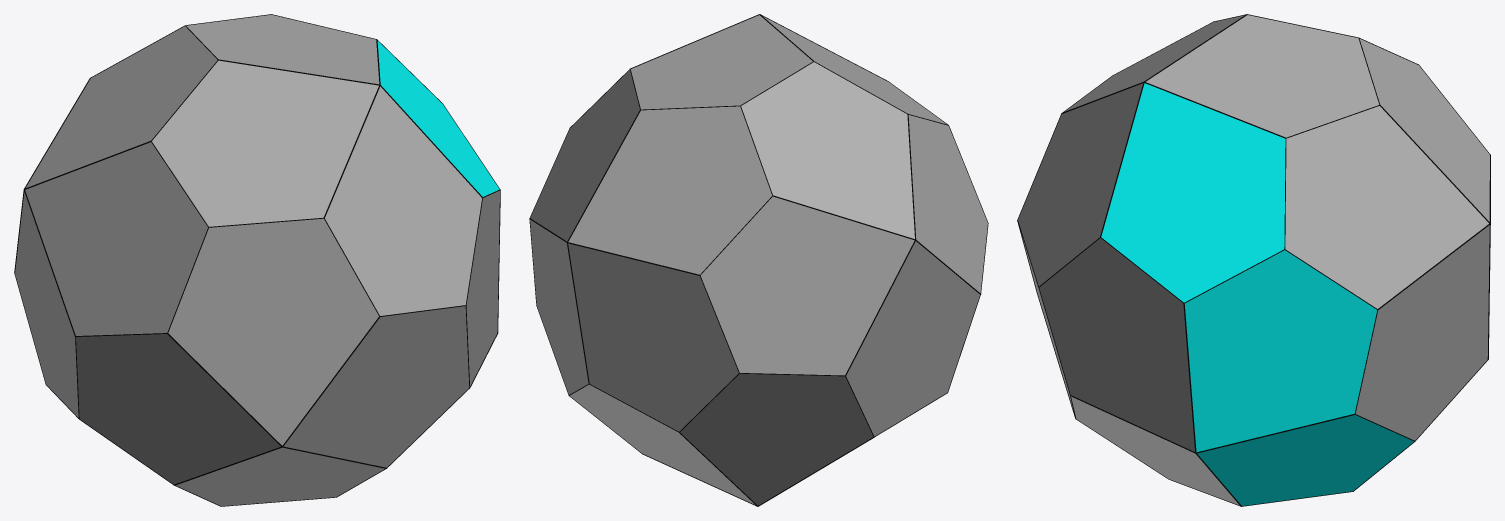
Rendered from PentagonalIcositetrahedron5.glb.
3 views of the same model, side by side, from view 1: azimuth 30°, elevation 25°; view 2: azimuth 150°, elevation 25°; view 3: azimuth 270°, elevation 25° (orthographic). The views are drawn at different scales.
Size of the model in its own units: 2.46 by 2.46 by 2.44.
